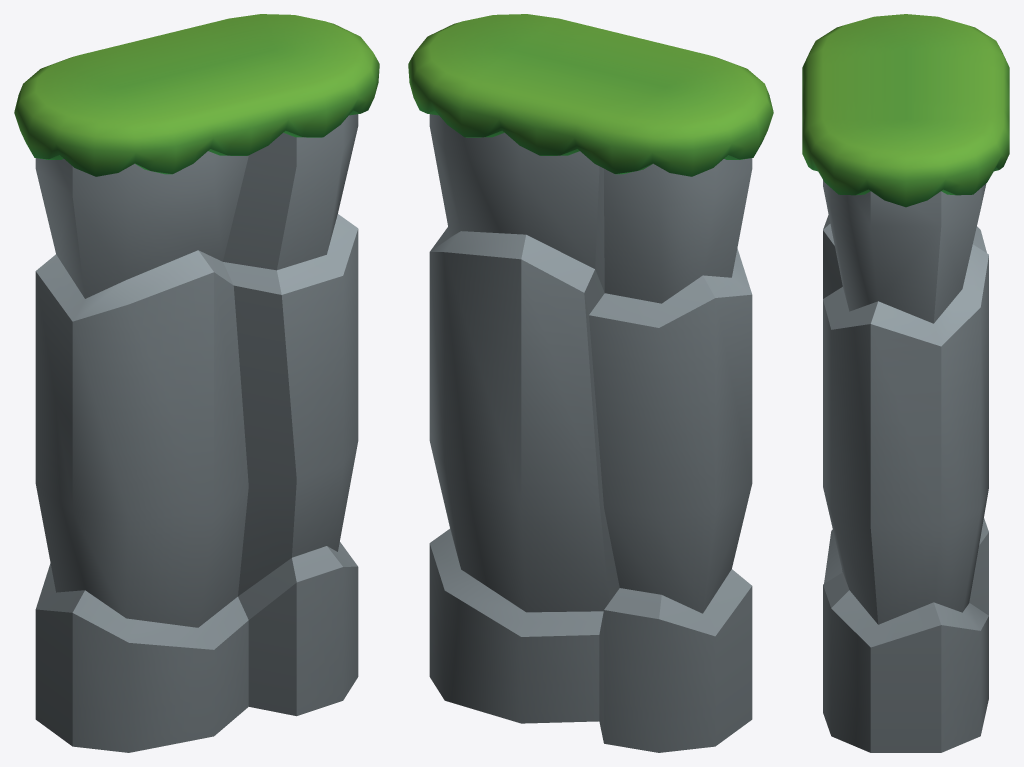
The model's file is Hill_4x2x8_Color1.gltf.
3 views of the same model, side by side, from view 1: azimuth 30°, elevation 25°; view 2: azimuth 150°, elevation 25°; view 3: azimuth 270°, elevation 25° (orthographic). The views are drawn at different scales.
Parts seen in each view (by area): view 1: Hill_4x2x8_Color1; view 2: Hill_4x2x8_Color1; view 3: Hill_4x2x8_Color1.
Part boxes in pixels (x1,y1,x2,y2): Hill_4x2x8_Color1: (14,14,379,752); Hill_4x2x8_Color1: (408,14,773,752); Hill_4x2x8_Color1: (802,14,1009,752).
Size of the model in its own units: 4.47 by 8 by 2.5.
Materials: 1 (1 with a texture image).
